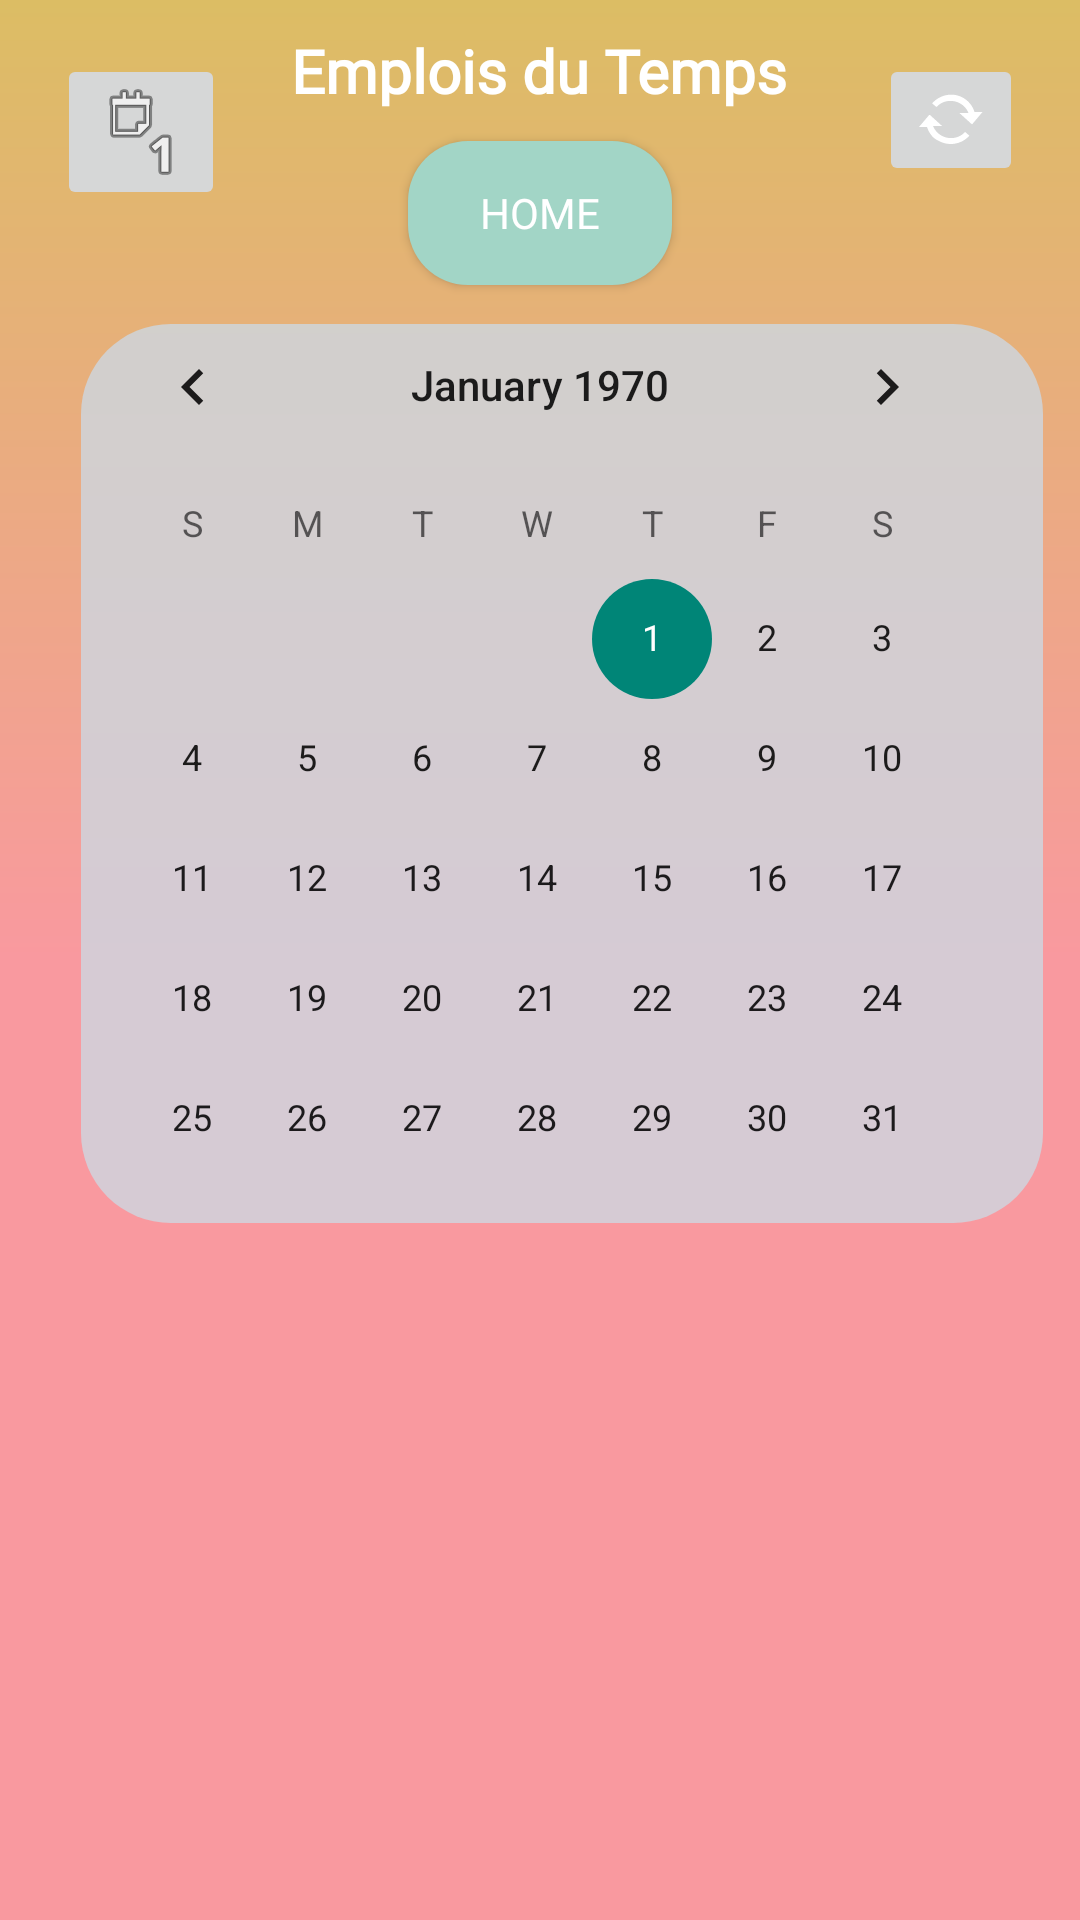

Screen size 1080px×1920px. Icon name, then its center in pixels as point (x, y):
day: point (141, 132)
sync: point (951, 120)
